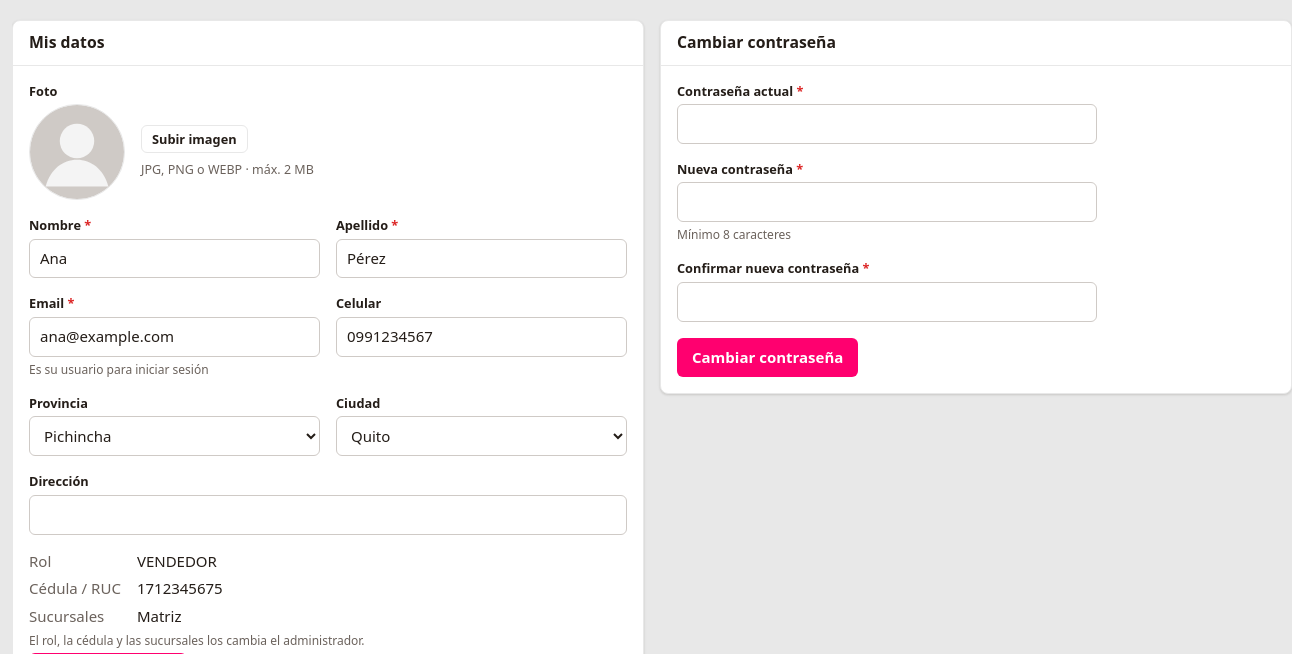
Test case: ProfilePage › updates the own data of the logged user
Expected: the field labelled "Nombre *" holds "Ana", [29,238,320,278]
Expected: the field labelled "Email *" holds "ana@example.com", [29,317,320,357]
Replace the text in the field labelled "Celular" with "0998887777" at x=482, y=337, box [336,317,627,357]
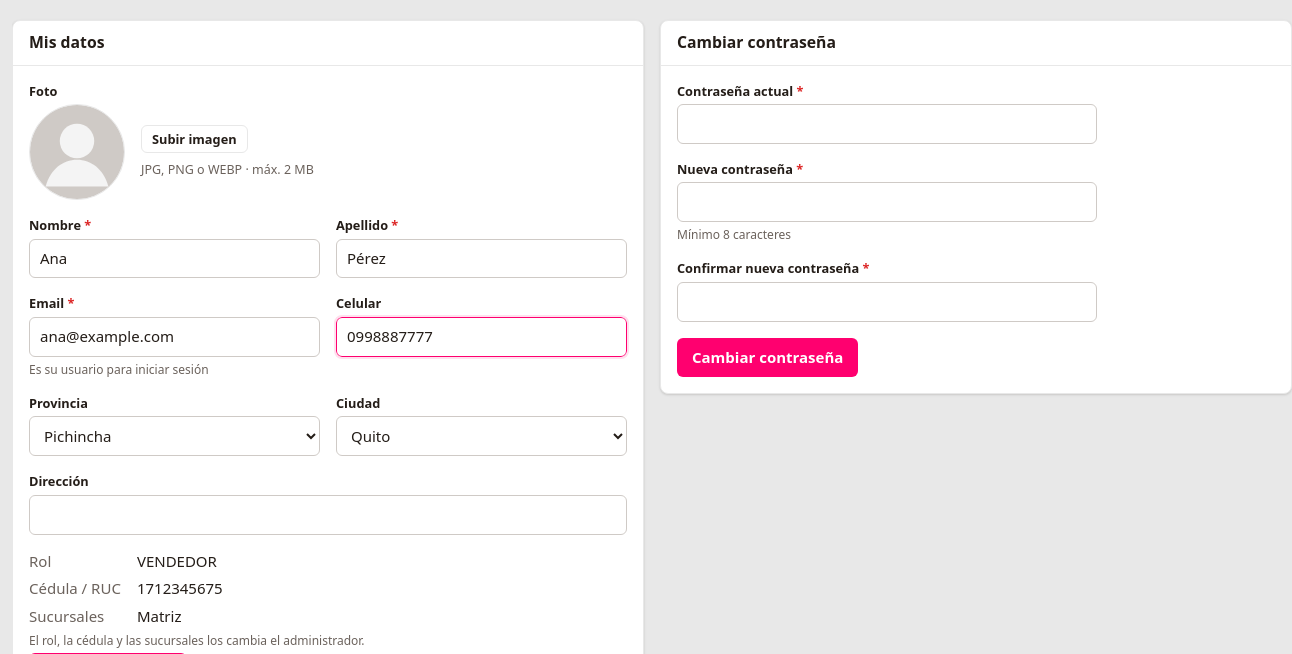
Type "Av. Amazonas N24-12" into the field labelled "Dirección" at x=328, y=515, box [29,495,627,535]
(page scrolled)
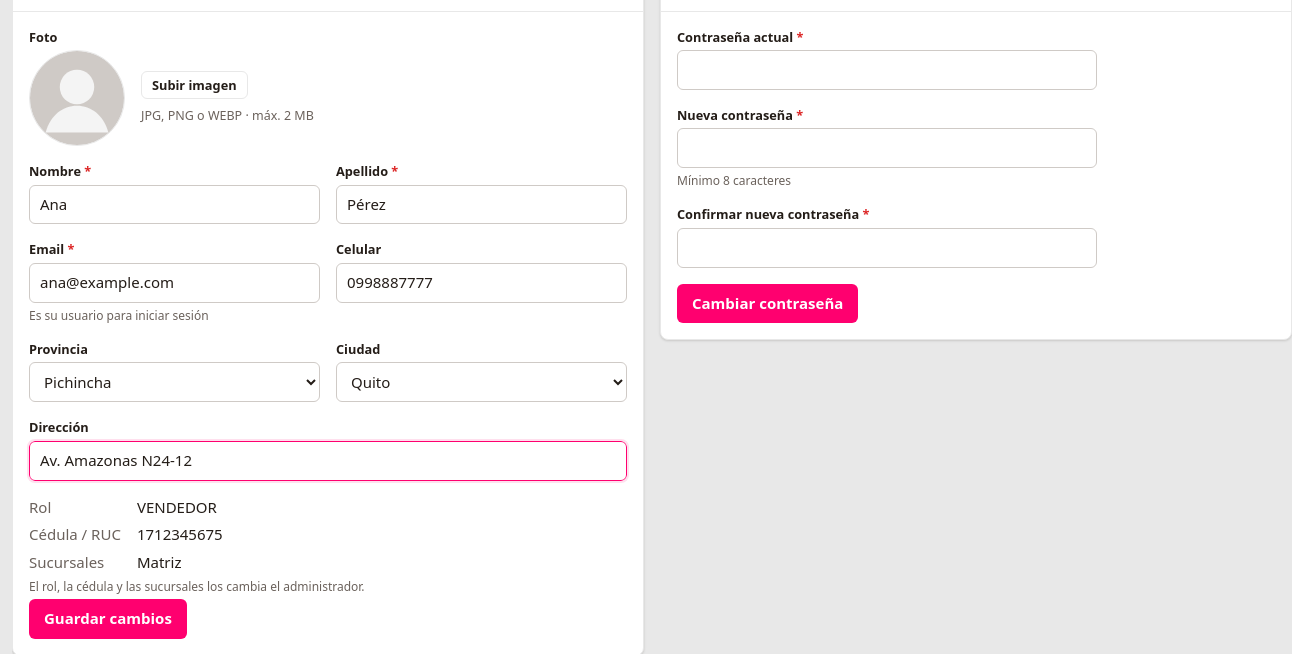
Click the button "Guardar cambios" at x=108, y=619, box [29,599,187,639]
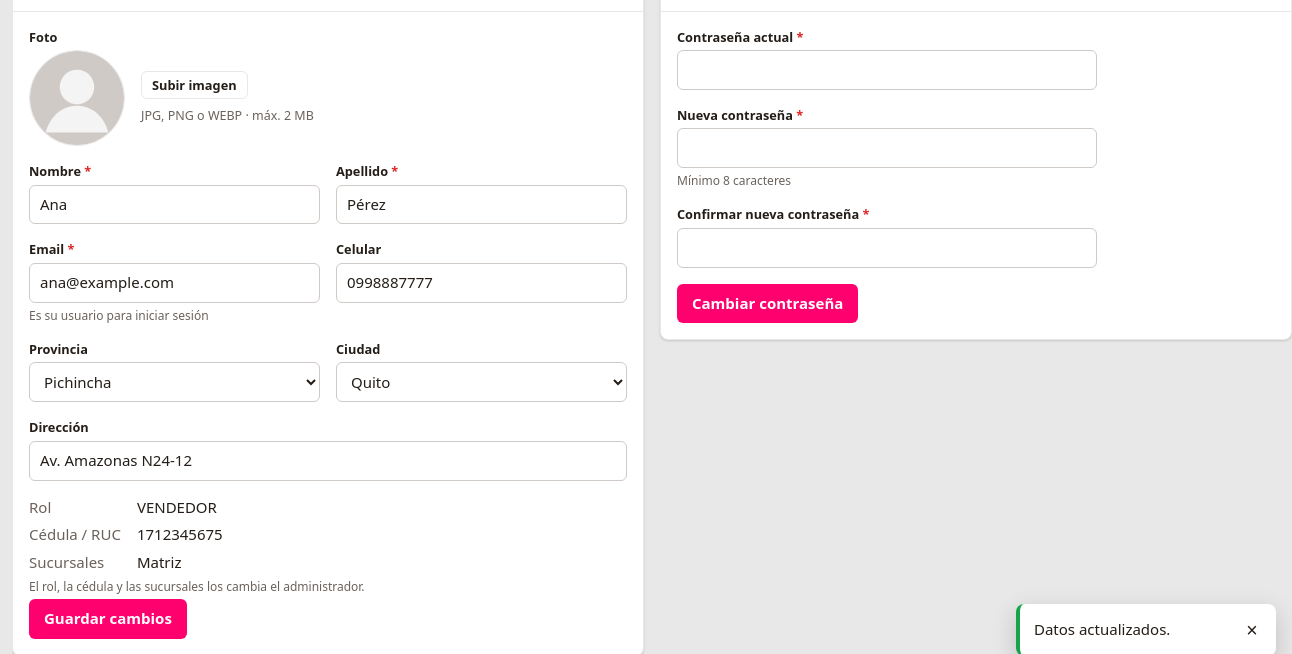
Result: the text "Datos actualizados." is shown at [1034,619,1170,639]
